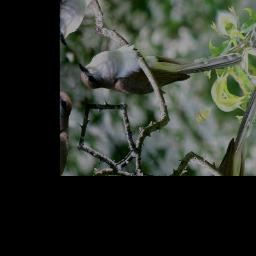Cuckoo: (73, 0, 247, 160)
